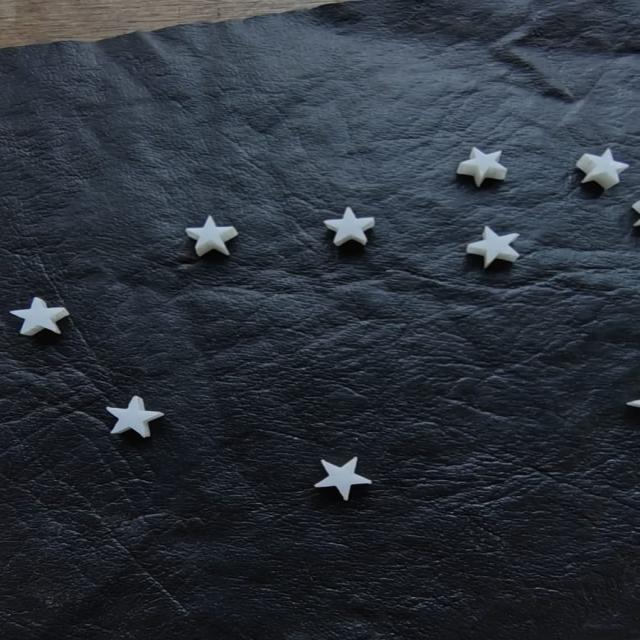estrellas: (315, 457, 371, 500), (105, 396, 160, 435), (469, 226, 520, 263), (183, 216, 232, 249), (326, 208, 372, 242), (462, 149, 505, 174)
